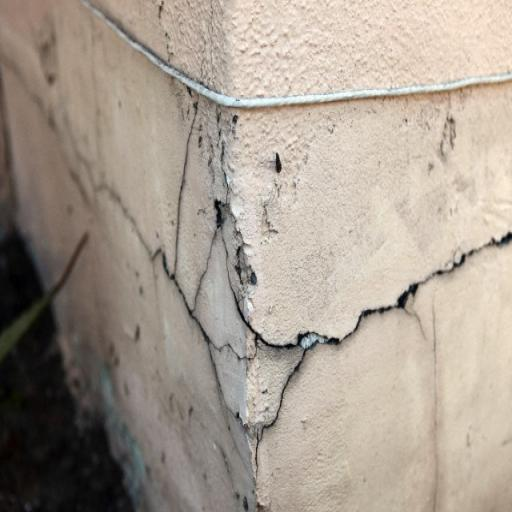spalling: (333, 232, 512, 345), (150, 248, 257, 362), (254, 347, 310, 471), (174, 100, 198, 272), (234, 296, 299, 349), (191, 227, 217, 312)
